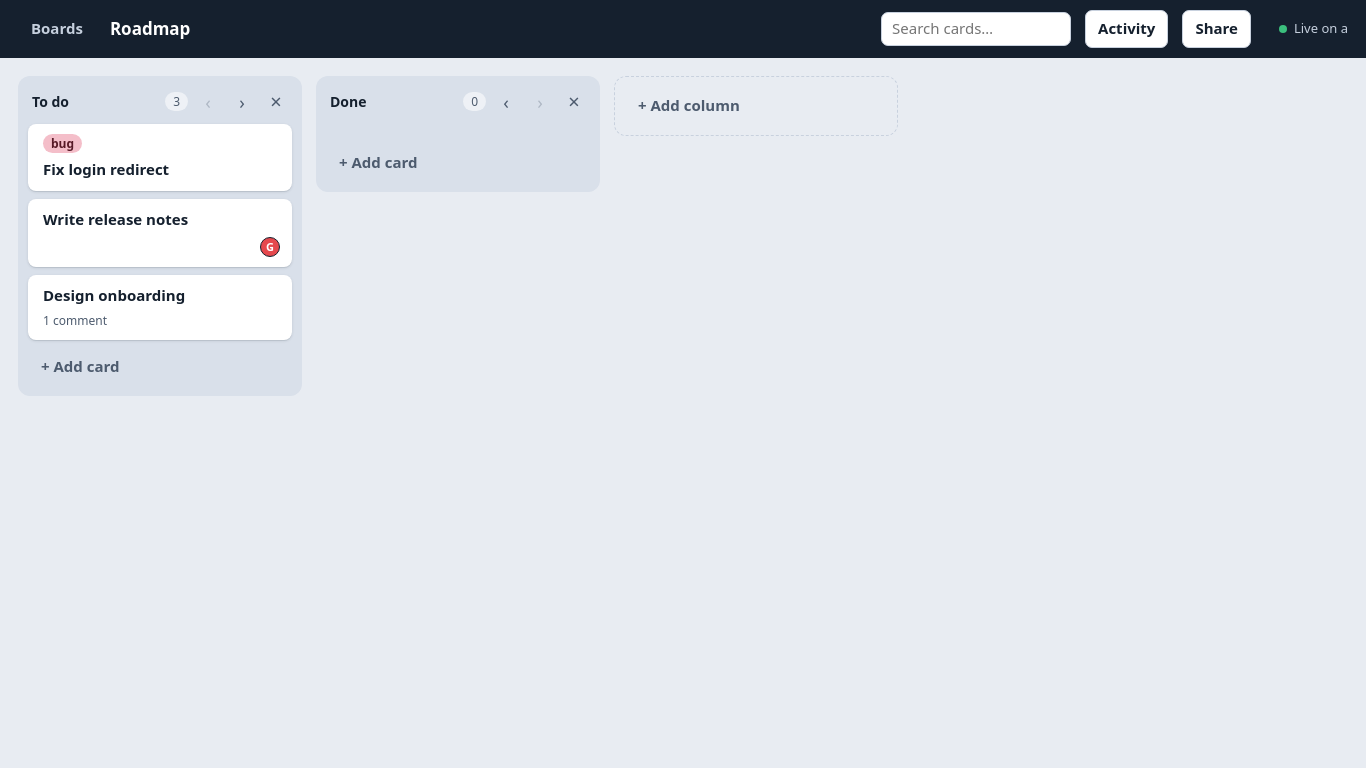
Test case: BoardView › activity › toggles a feed of what happened, and the close button hides it
Click the button with test id "activity-toggle" at (1127, 29), box [1085,10,1168,48]
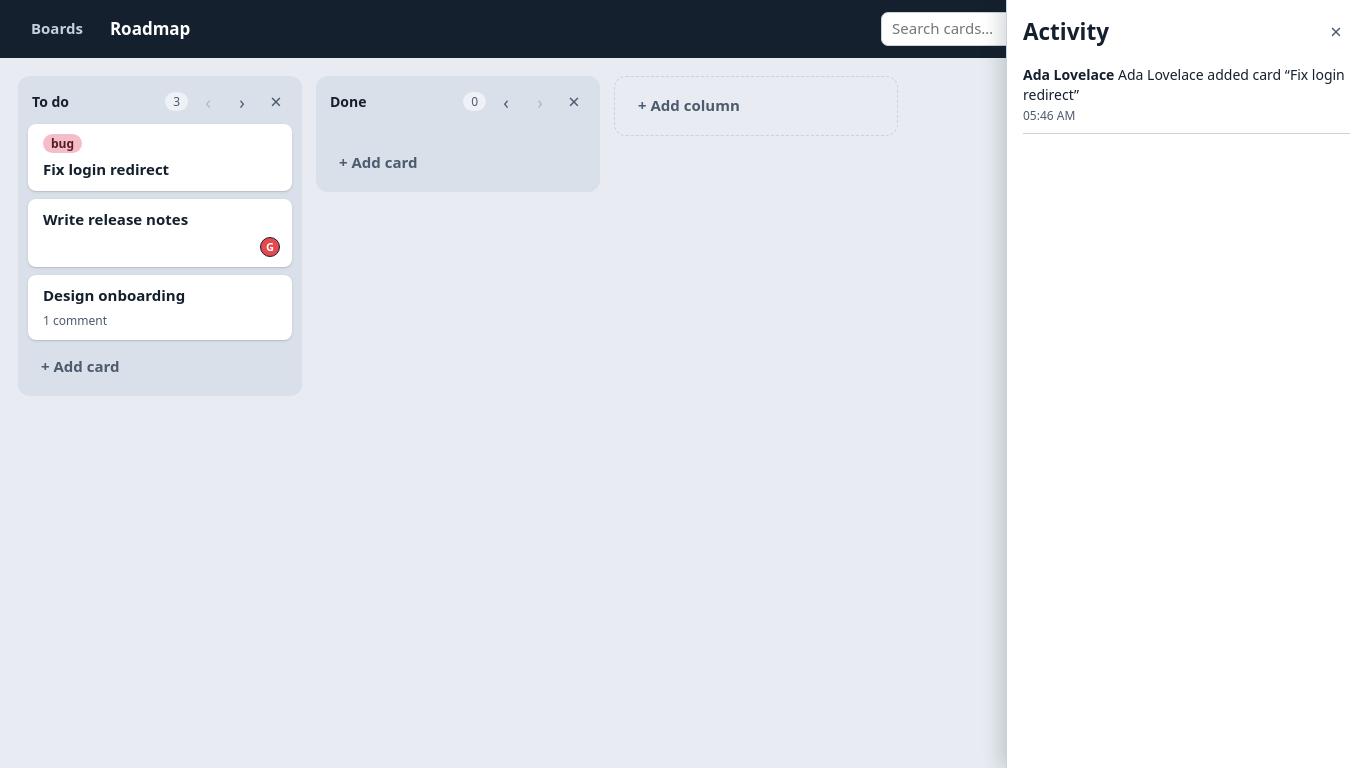
Check: the list item with test id "activity-item" shows "Ada Lovelace added card “Fix login redirect”", box [1023,65,1345,104]
Click the button named "Close activity" at (1336, 32), box [1322,18,1350,46]
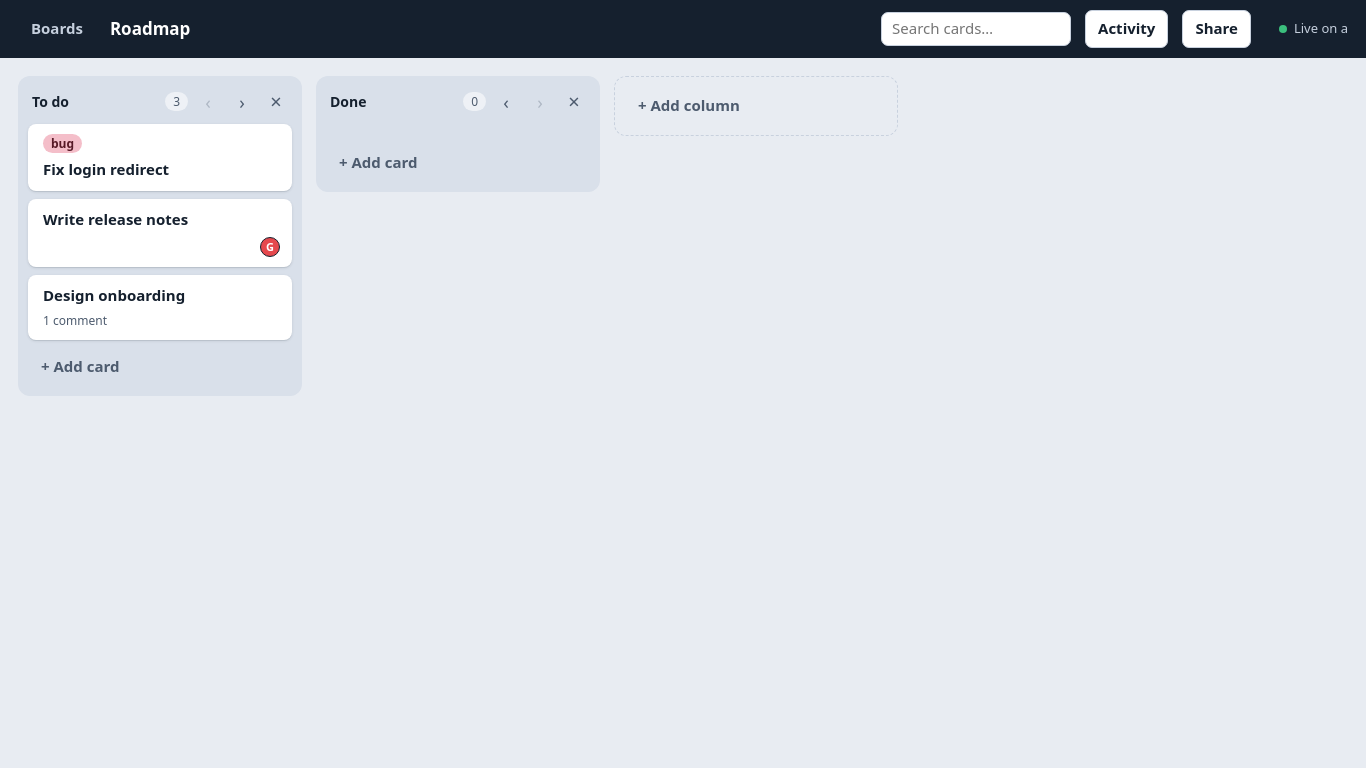
Check: the button with test id "activity" is gone
